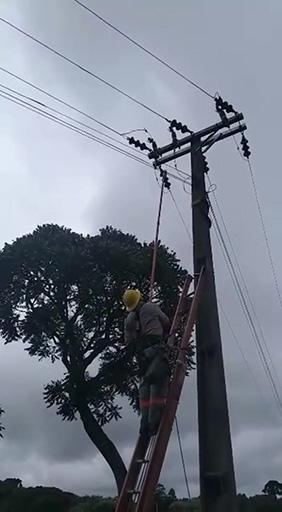Vara_Manobra: (150, 183, 165, 305)
